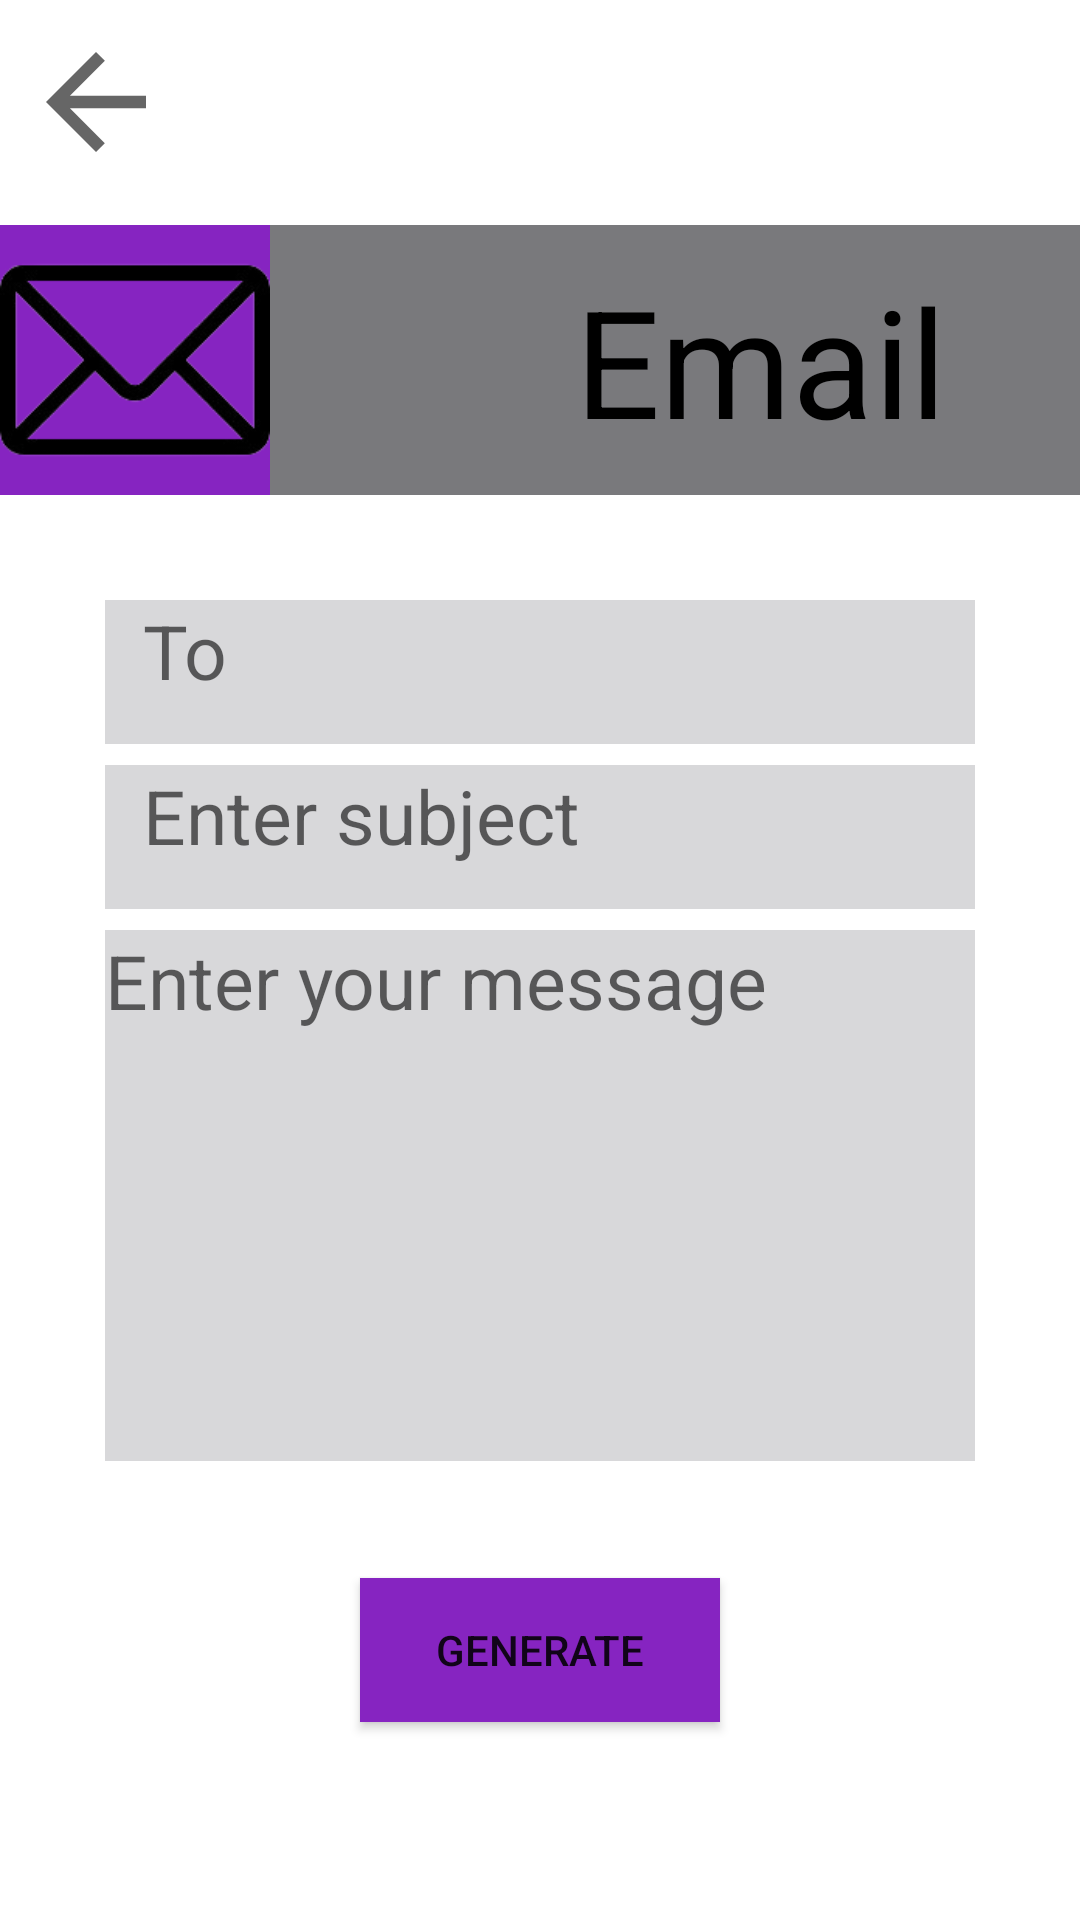

Where to tap for icons on this 1080px×1920px app screen, as (x=x, y=y):
arrow back: (x=96, y=102)
